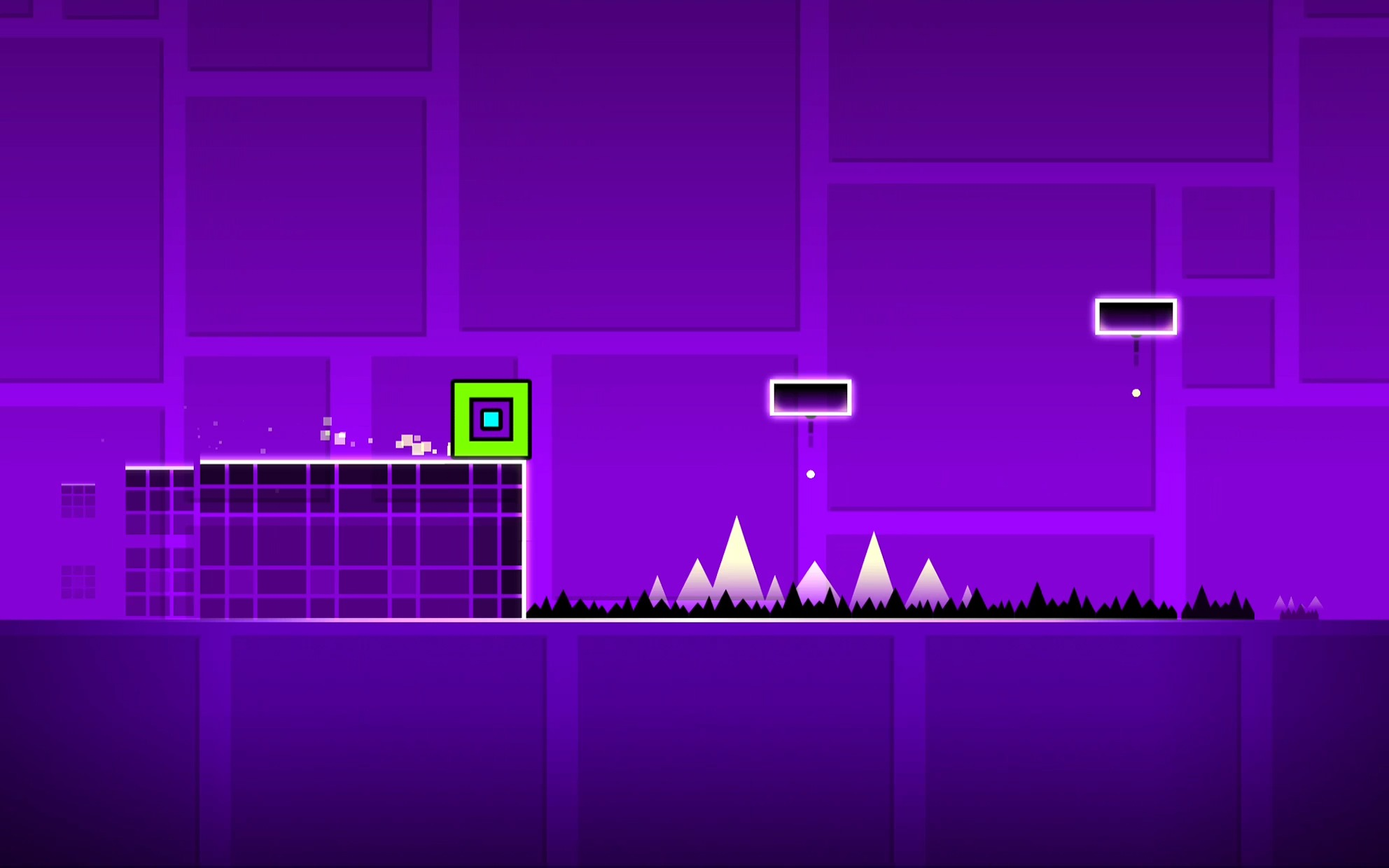Block2: (121, 461, 533, 619)
Block3: (1094, 298, 1179, 335), (769, 378, 852, 415)
Player: (449, 379, 530, 458)
Spike3: (536, 585, 1315, 621)
